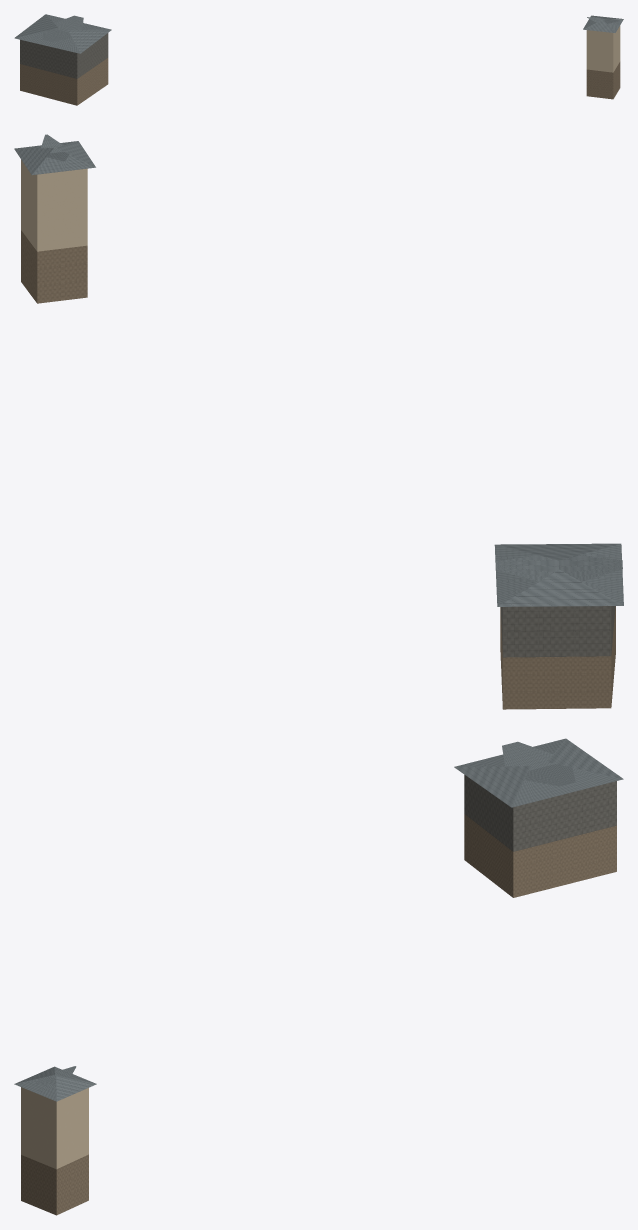
Rendered from bld_c44_33_255.gltf.
The picture shows the model from 3 angles, top to bottom: view 1: azimuth 30°, elevation 25°; view 2: azimuth 150°, elevation 25°; view 3: azimuth 270°, elevation 25°; orthographic projection. The views are drawn at different scales.
Visible parts, largest first — view 1: bld_c44_33_255; view 2: bld_c44_33_255; view 3: bld_c44_33_255.
Boxes of the visible parts, bbox=[...] form: bld_c44_33_255: bbox=[14, 14, 623, 105]; bld_c44_33_255: bbox=[14, 134, 623, 709]; bld_c44_33_255: bbox=[14, 738, 623, 1215].
Bounding box in the file's own units: 92.06 × 14.1 × 61.07.
Materials: 4 (4 with a texture image).
